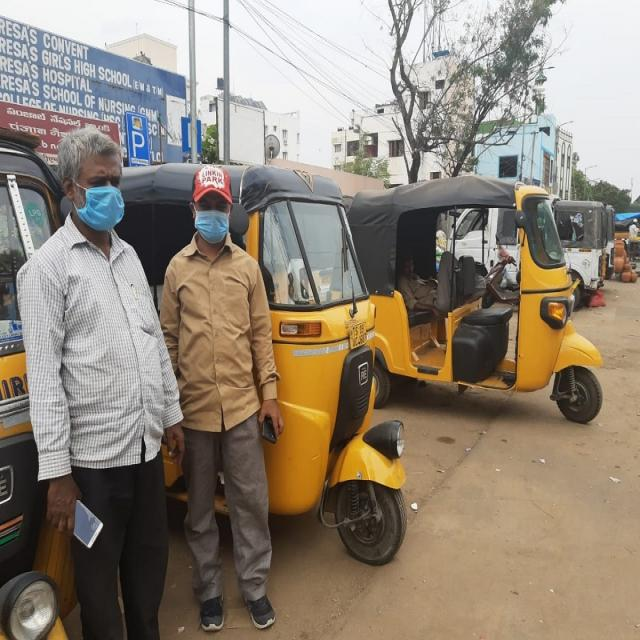autorikshaw: (350, 176, 603, 426)
